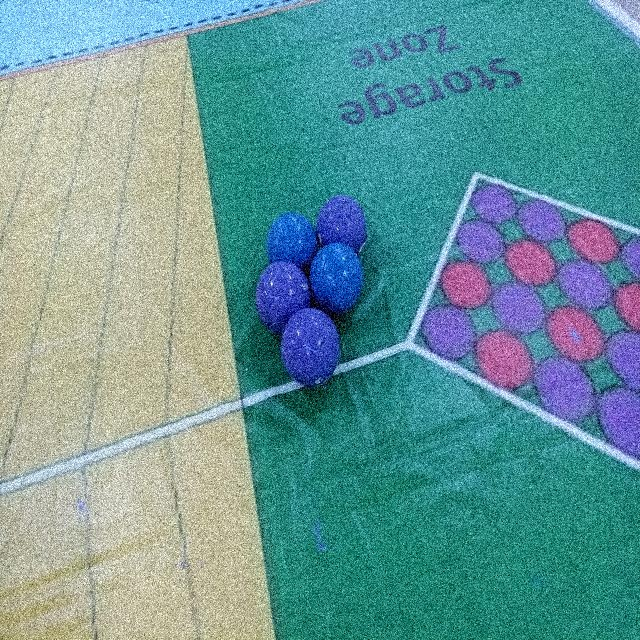blue_ball: (308, 240, 366, 313), (265, 210, 318, 272)
purple_ball: (279, 307, 342, 389), (254, 259, 312, 332), (315, 193, 369, 253)
